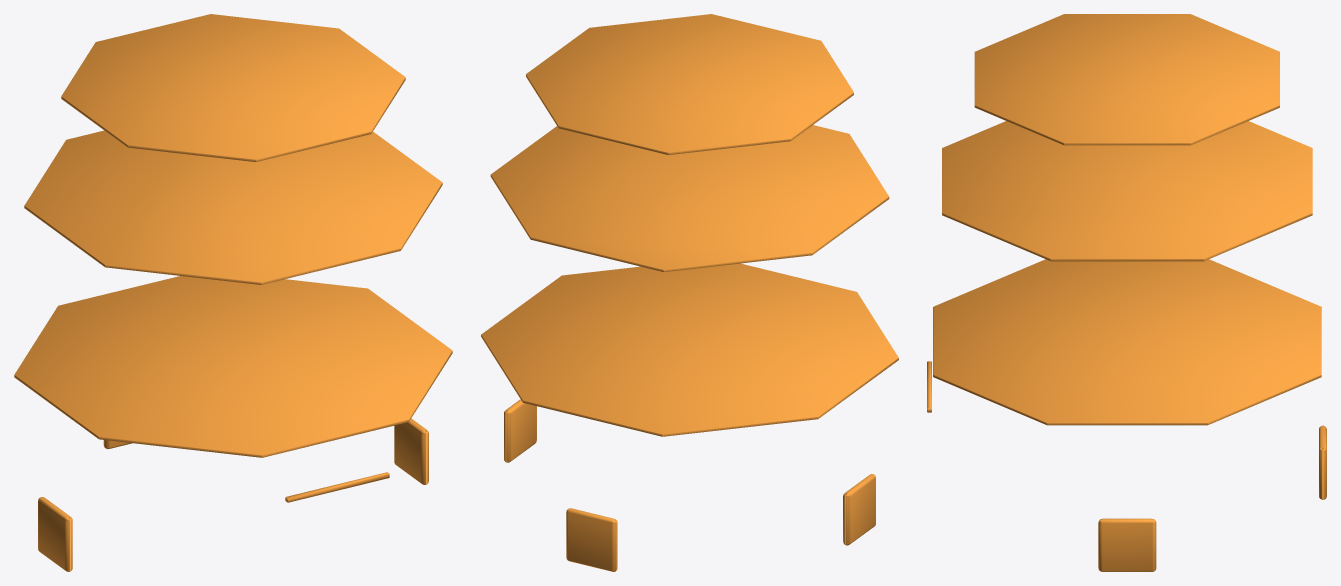
Rendered from MM_Station__Orange.fbx.
3 views of the same model, side by side, from view 1: azimuth 30°, elevation 25°; view 2: azimuth 150°, elevation 25°; view 3: azimuth 270°, elevation 25° (orthographic). The views are drawn at different scales.
Visible parts, largest first — view 1: MM_Station__Orange; view 2: MM_Station__Orange; view 3: MM_Station__Orange.
Boxes of the visible parts, left/top/right/bottom form: MM_Station__Orange: left=14, top=14, right=452, bottom=571; MM_Station__Orange: left=481, top=14, right=898, bottom=571; MM_Station__Orange: left=927, top=14, right=1326, bottom=571.
Bounding box in the file's own units: 2482 × 2818 × 2487.
